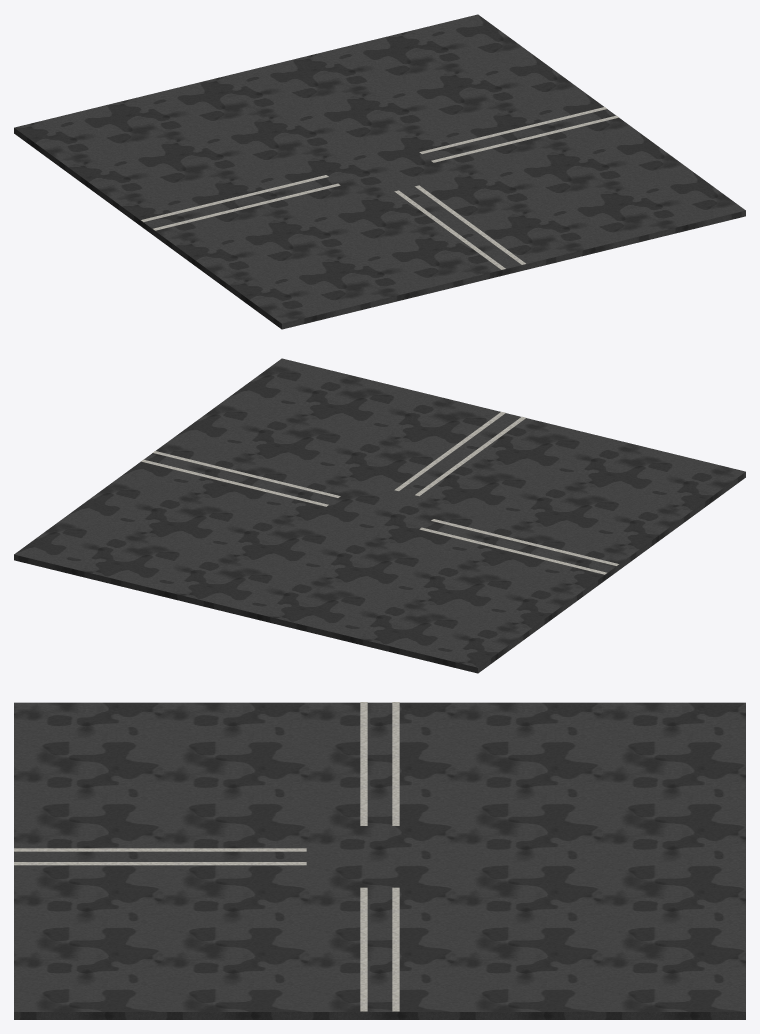
File: road.asphalt.tjunction.glb
3 views of the same model, one above another, from view 1: azimuth 30°, elevation 25°; view 2: azimuth 150°, elevation 25°; view 3: azimuth 270°, elevation 25° (orthographic). The views are drawn at different scales.
Parts seen in each view (by area): view 1: road.asphalt.tjunction; view 2: road.asphalt.tjunction; view 3: road.asphalt.tjunction.
Boxes of the visible parts, left/top/right/bottom form: road.asphalt.tjunction: left=14, top=14, right=745, bottom=329; road.asphalt.tjunction: left=14, top=358, right=745, bottom=673; road.asphalt.tjunction: left=14, top=702, right=745, bottom=1019.
Size of the model in its own units: 10 by 0.126 by 10.
2 materials, 2 textured.
